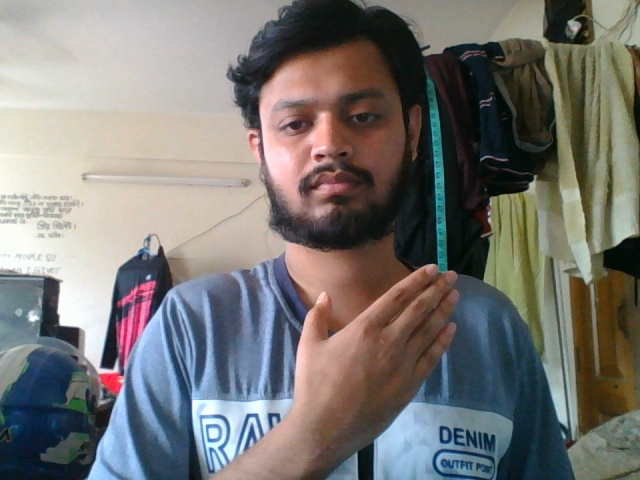ami: (270, 259, 467, 468)
